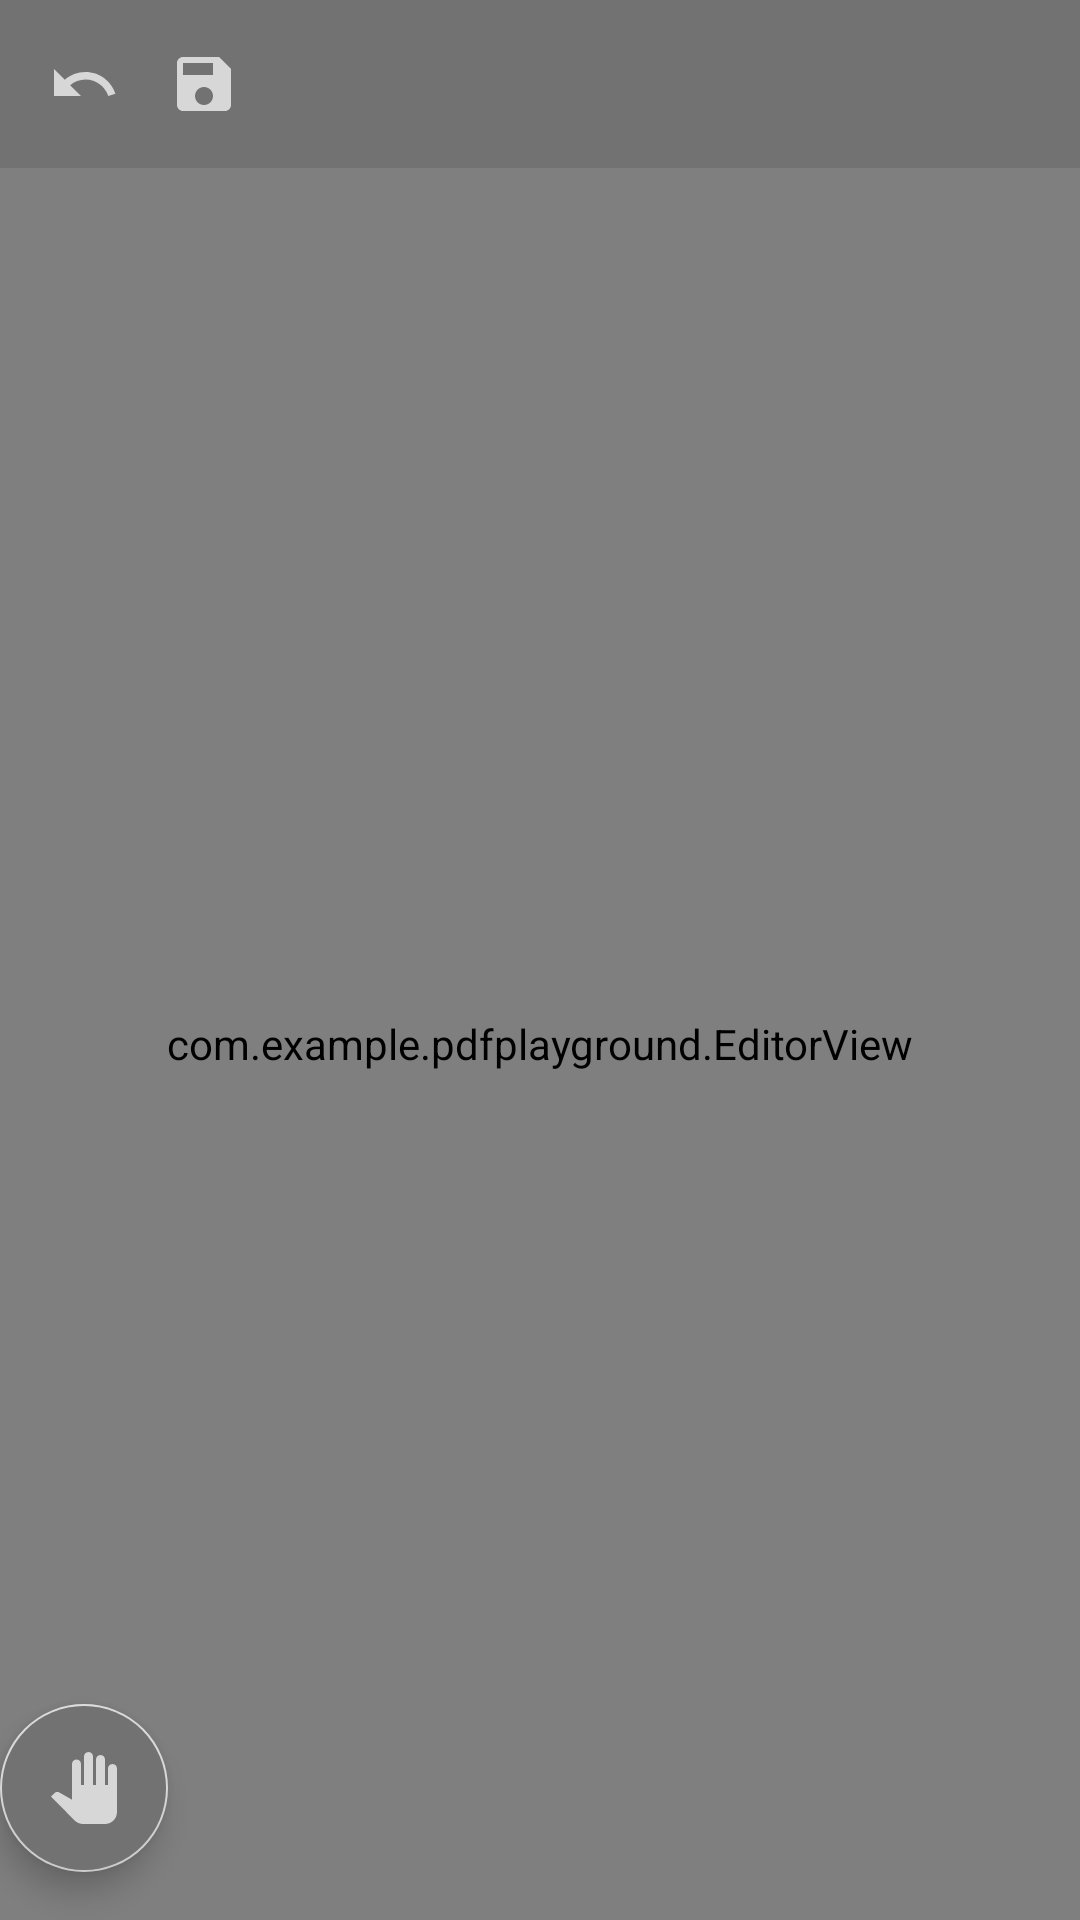

Icon bounding boxes for this 1080 x 1920 phone screenshot, format bbox=(x1, y1, x2, y2):
pan: bbox=(0, 1704, 168, 1872)
save: bbox=(177, 57, 231, 111)
undo: bbox=(54, 69, 115, 96)
